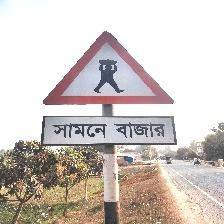Market-in-front: (41, 31, 177, 148)
